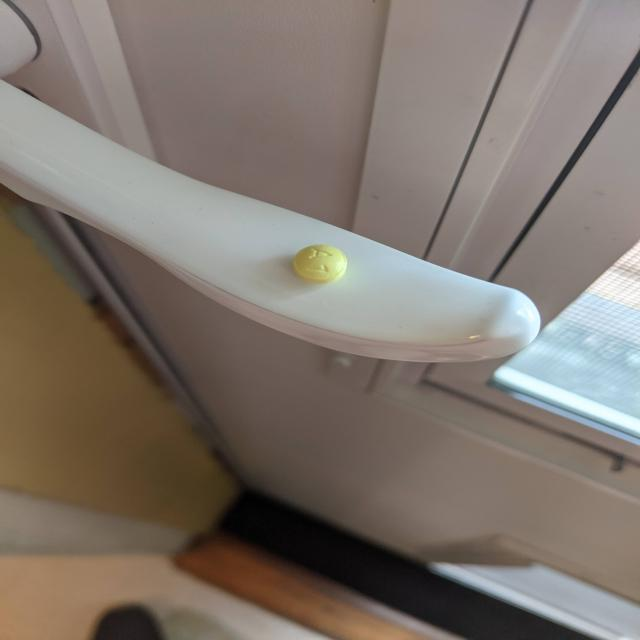non-organic waste: (292, 244, 348, 285)
